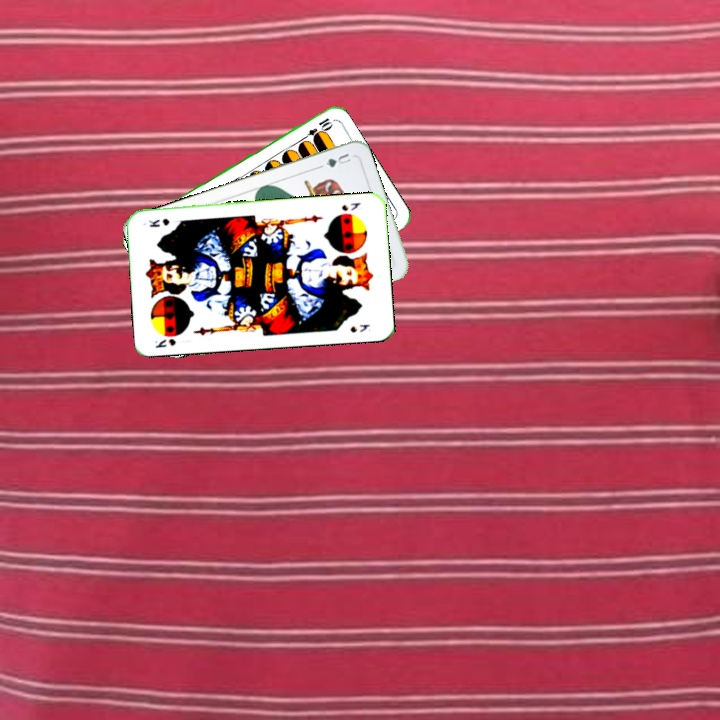E10: (297, 114, 334, 143)
GU: (316, 149, 354, 170)
SK: (151, 335, 178, 350), (337, 198, 363, 213)
